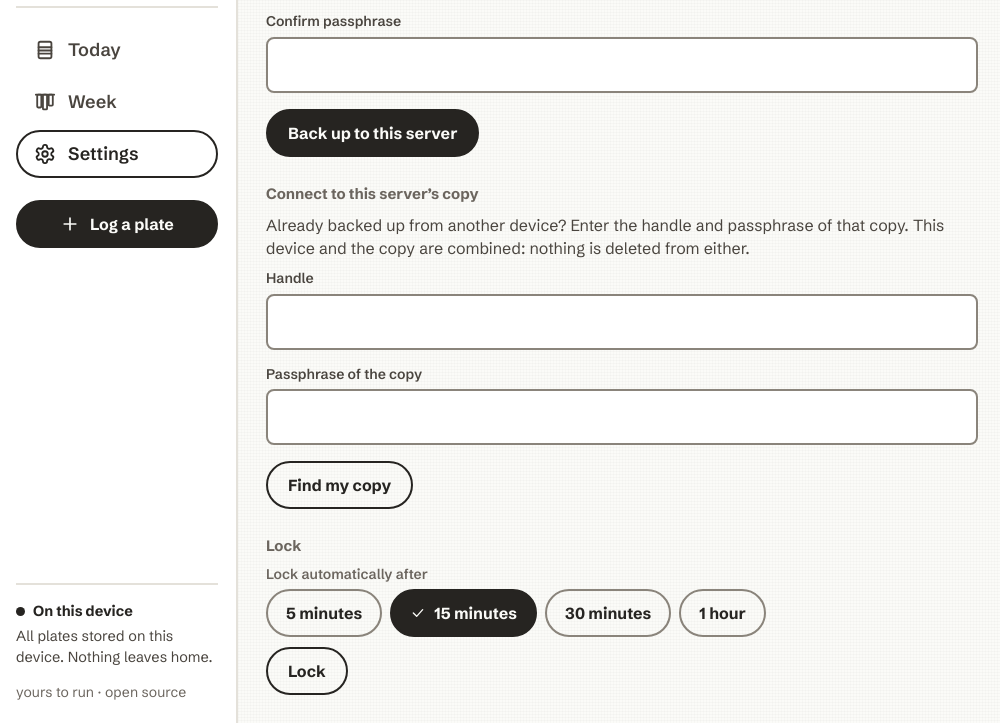
Scenario: Case B: connect to the copy that is on this server › shows the dry-run counts before anything is written, then Combine is the primary action
(page scrolled)
expect the heading "Connect to this server’s copy" is shown: met, box [266,184,478,203]
Type " Alice " into the field labelled "Handle" at (622, 322), box [268,296,976,348]
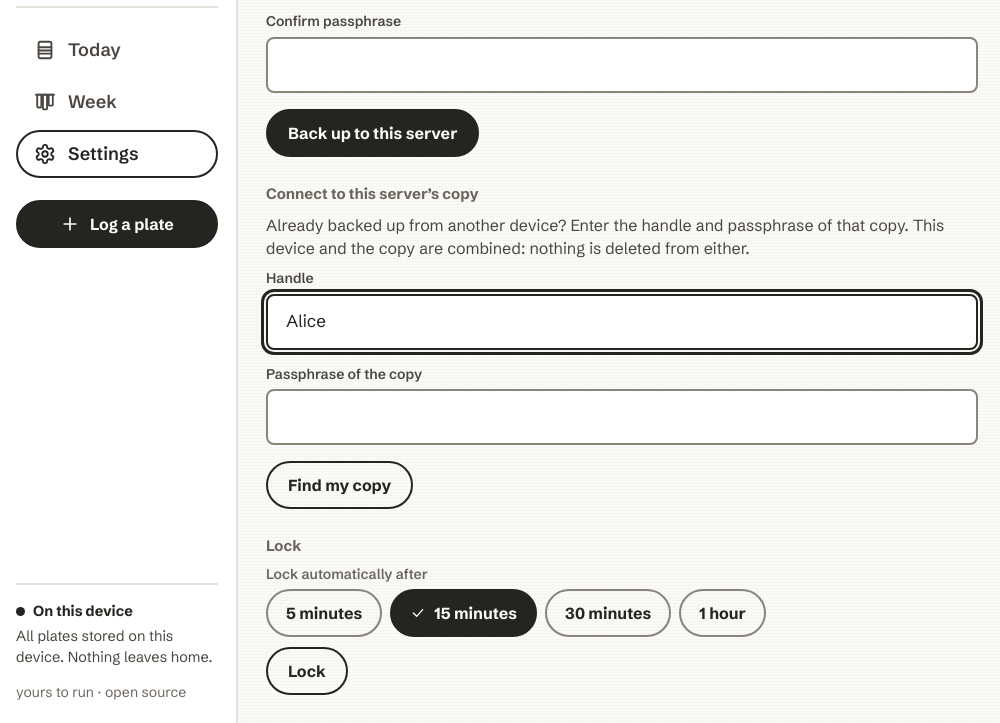
Type "a vault passphrase" into the password field labelled "Passphrase of the copy" at (622, 417), box [268,391,976,443]
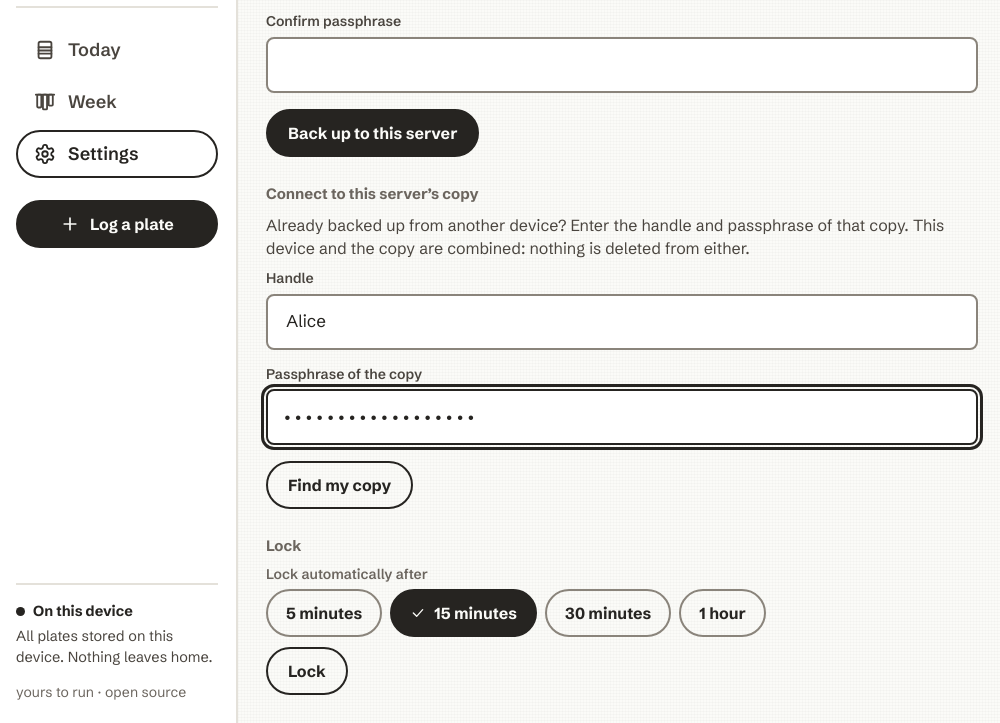
Click the button "Find my copy" at (340, 485), box [266,461,413,509]
(page scrolled)
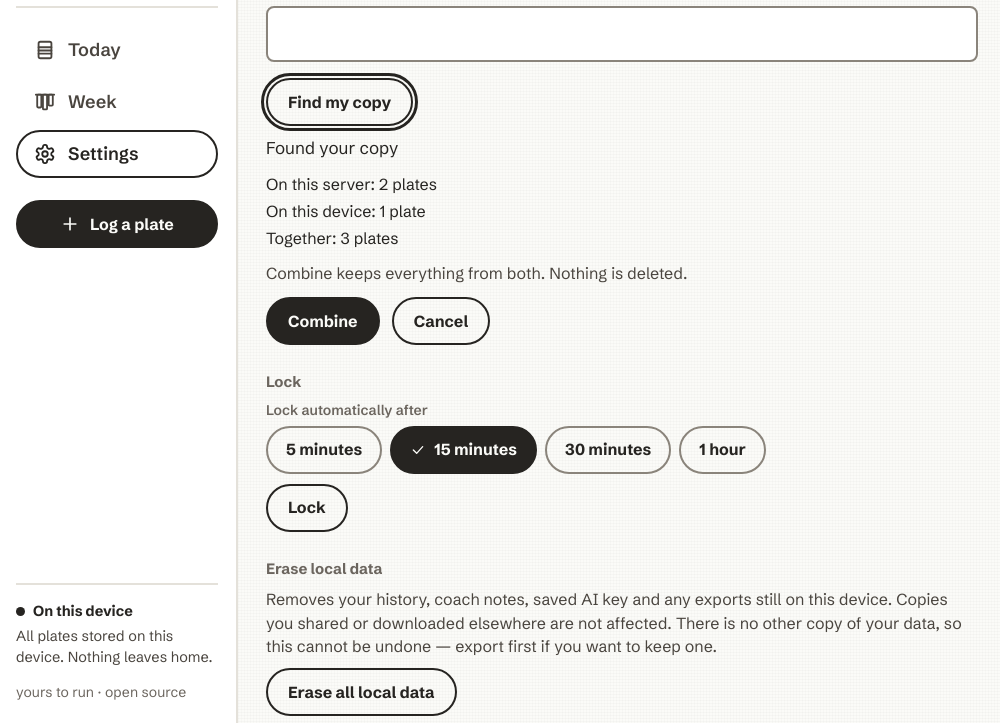
expect the heading "Found your copy" is shown: met, box [266,137,398,158]
expect the list item "On this server: 2 plates" is shown: met, box [266,174,437,194]
expect the list item "On this device: 1 plate" is shown: met, box [266,201,426,221]
Click the button "Combine" at (323, 321), box [266,297,380,345]
(page scrolled)
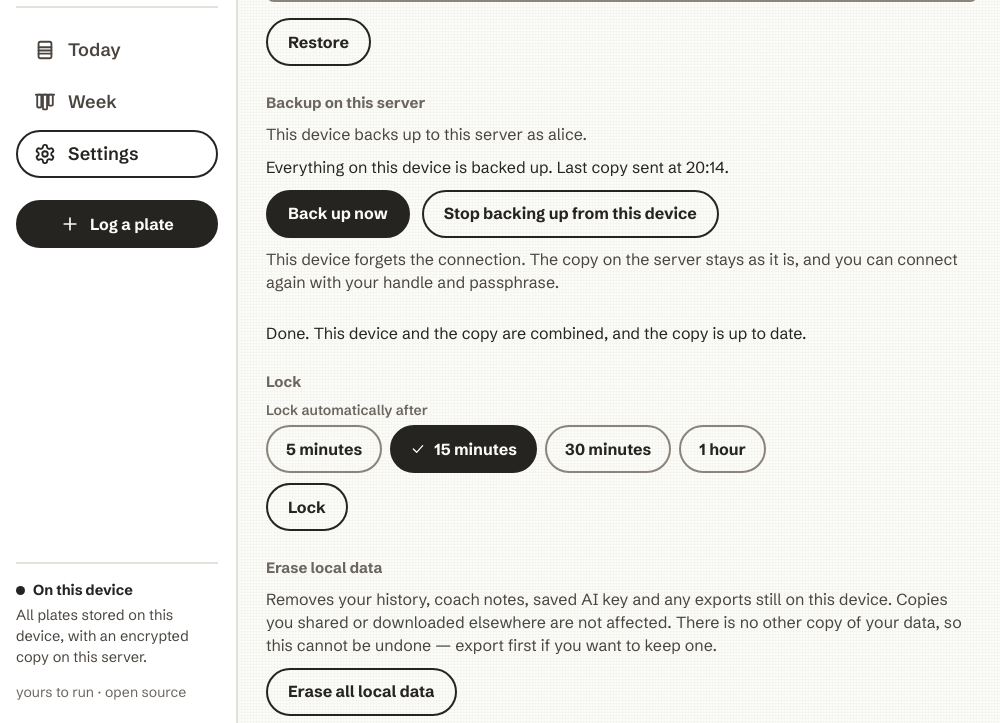
expect the text "Done. This device and the copy are combined, and the copy is up to date." is shown: met, box [266,323,806,343]
